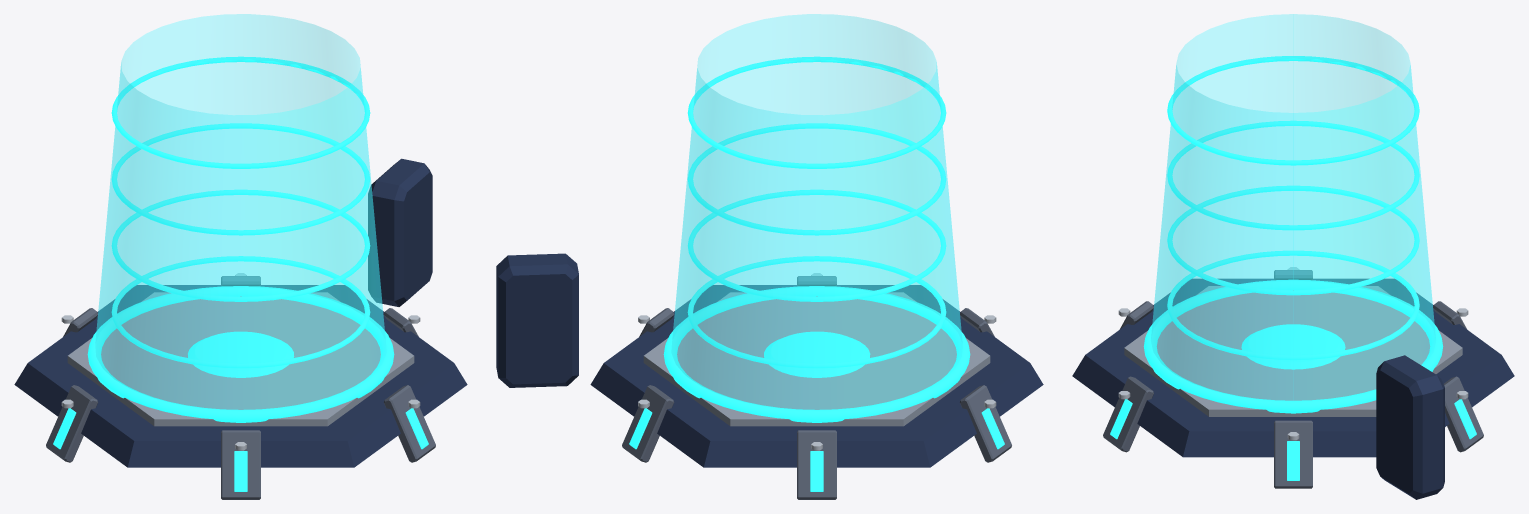
Rendered from shared_teleporter_pad_charged.glb.
3 renders of one model, left to right at view 1: azimuth 30°, elevation 25°; view 2: azimuth 150°, elevation 25°; view 3: azimuth 270°, elevation 25°, orthographic. The views are drawn at different scales.
Parts seen in each view (by area): view 1: tele_column, tele_plate, tele_base, tele_console, tele_ring, tele_column_ring3, tele_column_ring0, tele_column_ring1, tele_column_ring2, tele_core, tele_petal_blade2, tele_petal_blade1 (+3 smaller); view 2: tele_column, tele_plate, tele_base, tele_console, tele_ring, tele_column_ring3, tele_column_ring0, tele_column_ring1, tele_column_ring2, tele_core, tele_petal_blade4, tele_petal_blade3 (+1 smaller); view 3: tele_column, tele_plate, tele_base, tele_console, tele_ring, tele_column_ring3, tele_core, tele_column_ring0, tele_column_ring2, tele_column_ring1, tele_petal_blade0, tele_petal_blade1 (+3 smaller).
Part boxes in pixels (x1,y1,x2,y2): tele_column: (95, 14, 386, 409); tele_plate: (67, 292, 414, 426); tele_base: (14, 285, 467, 467); tele_console: (368, 158, 432, 306); tele_ring: (87, 286, 394, 422); tele_column_ring3: (111, 56, 370, 168); tele_column_ring0: (111, 256, 370, 368); tele_column_ring1: (111, 189, 370, 301); tele_column_ring2: (111, 123, 370, 235); tele_core: (188, 331, 294, 377); tele_petal_blade2: (221, 430, 260, 499); tele_petal_blade1: (383, 385, 435, 462); tele_column: (671, 14, 962, 409); tele_plate: (643, 292, 990, 426); tele_base: (590, 285, 1043, 467); tele_console: (496, 253, 578, 387); tele_ring: (663, 286, 970, 422); tele_column_ring3: (687, 56, 946, 168); tele_column_ring0: (687, 256, 946, 368); tele_column_ring1: (687, 189, 946, 301); tele_column_ring2: (687, 123, 946, 235); tele_core: (764, 331, 870, 377); tele_petal_blade4: (797, 430, 836, 499); tele_petal_blade3: (960, 385, 1011, 462); tele_column: (1151, 14, 1435, 400); tele_plate: (1124, 286, 1462, 416); tele_base: (1072, 278, 1514, 457); tele_console: (1376, 355, 1444, 499); tele_ring: (1143, 279, 1443, 413); tele_column_ring3: (1167, 56, 1419, 165); tele_core: (1241, 324, 1345, 369); tele_column_ring0: (1167, 250, 1419, 360); tele_column_ring2: (1167, 120, 1419, 230); tele_column_ring1: (1167, 185, 1419, 295); tele_petal_blade0: (1274, 420, 1312, 488); tele_petal_blade1: (1103, 376, 1153, 452).
Size of the model in its own units: 3.82 by 2.88 by 3.4.
